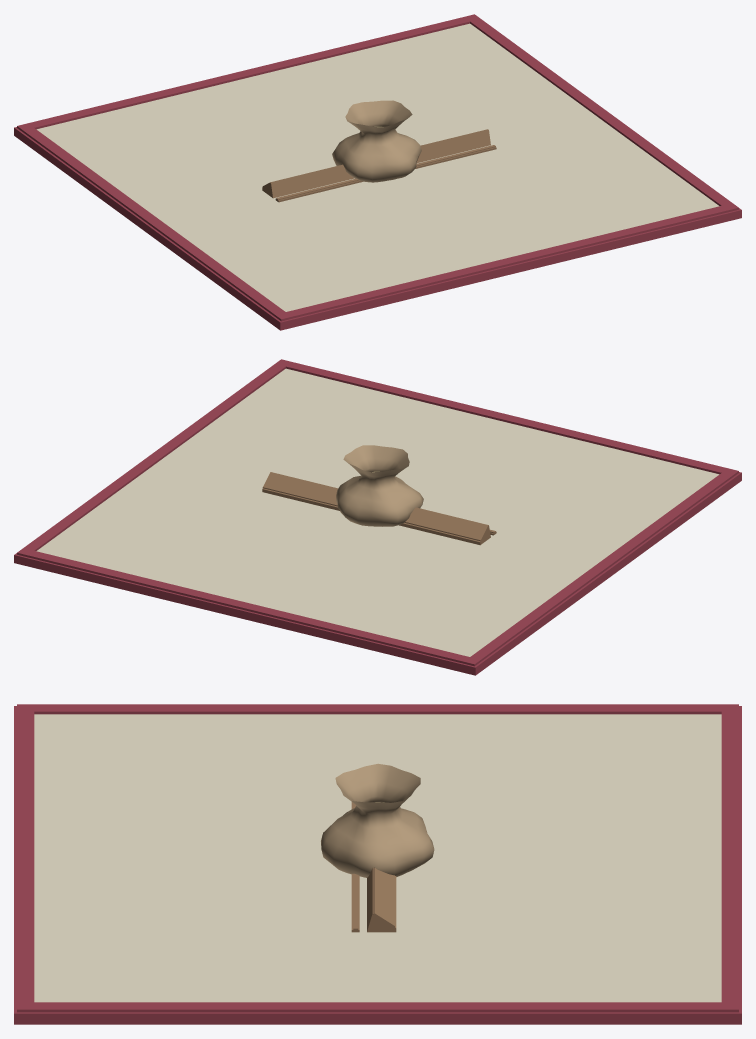
Rendered from scarabeo.glb.
The picture shows the model from 3 angles, top to bottom: view 1: azimuth 30°, elevation 25°; view 2: azimuth 150°, elevation 25°; view 3: azimuth 270°, elevation 25°; orthographic projection. The views are drawn at different scales.
Visible parts, largest first — view 1: plancia, sacchetto, leggio; view 2: plancia, sacchetto, leggio; view 3: plancia, sacchetto, leggio.
Boxes of the visible parts, x1=… form: plancia: x1=14, y1=14, x2=741, y2=330; sacchetto: x1=332, y1=100, x2=421, y2=182; leggio: x1=262, y1=129, x2=496, y2=202; plancia: x1=14, y1=359, x2=741, y2=675; sacchetto: x1=336, y1=445, x2=423, y2=526; leggio: x1=262, y1=472, x2=496, y2=545; plancia: x1=14, y1=704, x2=741, y2=1024; sacchetto: x1=321, y1=763, x2=434, y2=877; leggio: x1=351, y1=802, x2=396, y2=932.
Size of the model in its own units: 0.72 by 0.0943 by 0.72.
